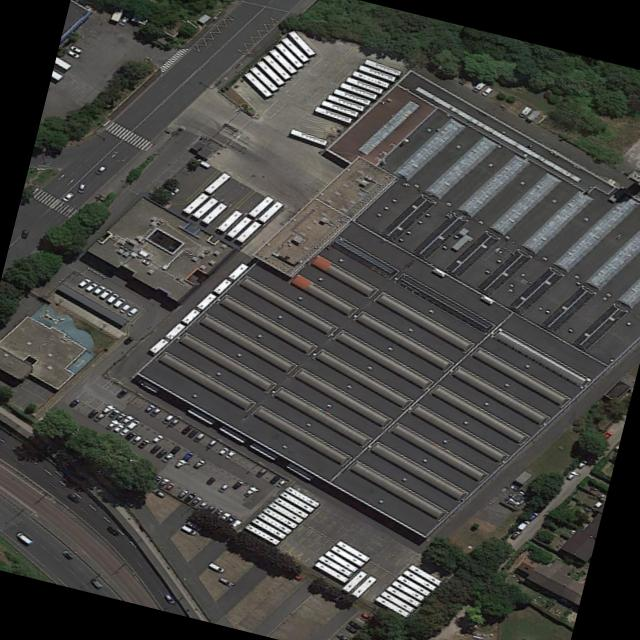large-vehicle: (407, 563, 445, 587), (279, 490, 317, 513), (379, 590, 417, 613), (375, 595, 412, 618), (284, 485, 321, 508), (273, 496, 310, 519), (268, 500, 305, 523), (257, 511, 294, 534), (386, 585, 423, 608), (401, 569, 438, 592), (318, 555, 355, 577), (262, 507, 299, 529), (391, 580, 428, 602), (396, 575, 433, 597), (313, 561, 349, 583), (251, 517, 287, 539), (244, 523, 280, 545), (268, 48, 298, 74), (262, 54, 292, 80), (256, 60, 286, 86), (249, 66, 279, 92), (244, 72, 275, 97), (324, 550, 359, 572), (275, 43, 305, 68), (337, 540, 371, 562), (345, 75, 384, 94), (287, 30, 316, 55), (281, 37, 310, 62), (339, 81, 377, 100), (364, 58, 404, 76), (331, 545, 365, 566), (321, 99, 360, 117), (314, 105, 353, 123), (358, 64, 396, 82), (352, 70, 390, 88), (201, 201, 229, 225), (182, 191, 210, 215), (332, 88, 371, 105), (351, 575, 378, 599), (327, 94, 365, 111), (248, 195, 276, 218), (226, 215, 253, 238), (204, 172, 232, 194), (290, 129, 328, 145), (237, 220, 263, 243), (342, 570, 367, 593), (258, 200, 284, 222), (218, 210, 244, 232), (192, 197, 219, 218), (195, 292, 219, 311), (226, 262, 249, 280), (165, 322, 186, 340), (180, 308, 201, 325), (149, 337, 170, 354), (213, 278, 233, 295)
small-vehicle: (15, 531, 33, 545), (207, 561, 226, 574), (179, 524, 197, 536), (518, 105, 533, 118), (242, 486, 258, 498), (472, 80, 488, 92), (165, 182, 181, 194), (104, 419, 120, 431), (480, 85, 495, 97), (516, 519, 531, 531), (105, 292, 120, 304), (218, 576, 234, 587), (195, 157, 211, 168), (599, 430, 615, 441), (111, 297, 127, 308), (120, 414, 136, 425), (205, 437, 219, 449), (192, 458, 207, 469), (106, 526, 121, 537), (575, 458, 590, 469), (125, 306, 140, 317), (136, 438, 151, 449), (160, 451, 175, 462), (123, 430, 138, 441), (98, 288, 113, 299), (167, 416, 180, 428), (348, 619, 362, 630), (184, 492, 198, 503), (118, 302, 132, 313), (149, 406, 163, 417), (161, 413, 175, 424), (154, 448, 168, 459), (255, 467, 269, 478), (77, 277, 92, 287), (126, 419, 141, 429), (525, 512, 541, 521), (268, 474, 281, 485), (157, 477, 170, 488), (164, 594, 177, 605), (509, 529, 522, 540), (192, 431, 205, 442), (565, 470, 578, 481), (115, 388, 128, 399), (143, 402, 156, 413), (148, 443, 161, 454), (130, 434, 143, 445), (224, 449, 238, 459), (152, 488, 166, 498), (211, 508, 225, 518), (361, 612, 375, 622), (66, 49, 80, 59), (94, 165, 108, 175), (118, 426, 132, 436), (84, 282, 98, 292), (62, 191, 74, 202), (87, 408, 99, 419), (61, 549, 74, 559), (231, 480, 244, 490), (89, 578, 102, 588), (218, 512, 231, 522), (190, 496, 203, 506), (176, 488, 189, 498), (180, 425, 193, 435), (93, 284, 106, 294), (101, 404, 114, 414), (107, 408, 120, 418), (150, 474, 164, 483), (223, 516, 237, 525), (217, 483, 229, 493), (275, 478, 287, 488), (164, 481, 176, 491), (336, 632, 351, 640), (123, 336, 135, 346), (187, 428, 199, 438), (182, 451, 194, 461), (68, 398, 80, 408), (230, 520, 243, 529), (69, 494, 82, 503), (70, 45, 83, 54), (151, 434, 164, 443), (173, 459, 186, 468), (119, 16, 130, 26), (217, 446, 229, 455), (345, 625, 357, 634), (196, 501, 208, 510), (92, 413, 105, 421), (77, 183, 87, 193), (204, 505, 215, 514), (169, 445, 180, 454), (205, 477, 217, 485), (114, 412, 126, 420), (20, 229, 29, 239), (113, 424, 124, 432)
